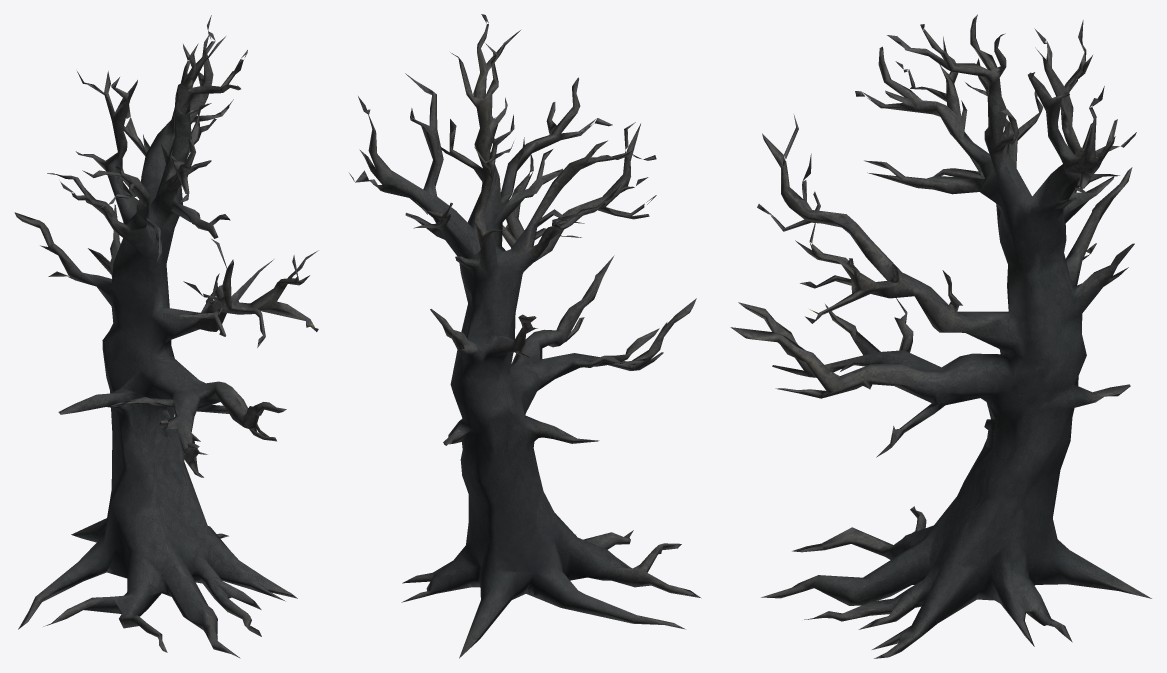
Rendered from ash_tree.glb.
3 renders of one model, left to right at view 1: azimuth 30°, elevation 25°; view 2: azimuth 150°, elevation 25°; view 3: azimuth 270°, elevation 25°, orthographic. The views are drawn at different scales.
Bounding box in the file's own units: 0.9859 × 1.86 × 1.15.
1 material, 1 textured.
